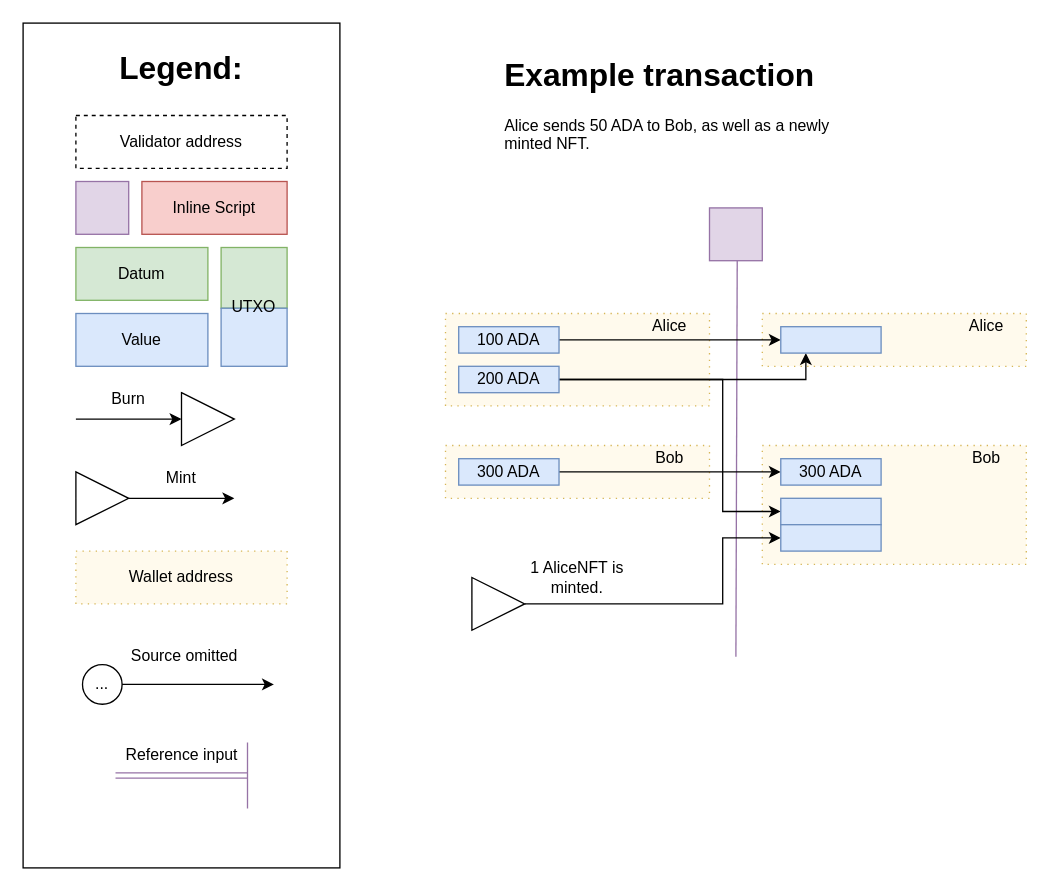
This 1049x891 diagram has some shape labels left out. Here are the shapes that lost their labels. From the top down, the centre of each, then its label:
point (102, 207): Tx
point (735, 234): Tx1
point (830, 339): 250 ADA
point (830, 511): 50 ADA
point (830, 537): 1 AliceNFT
